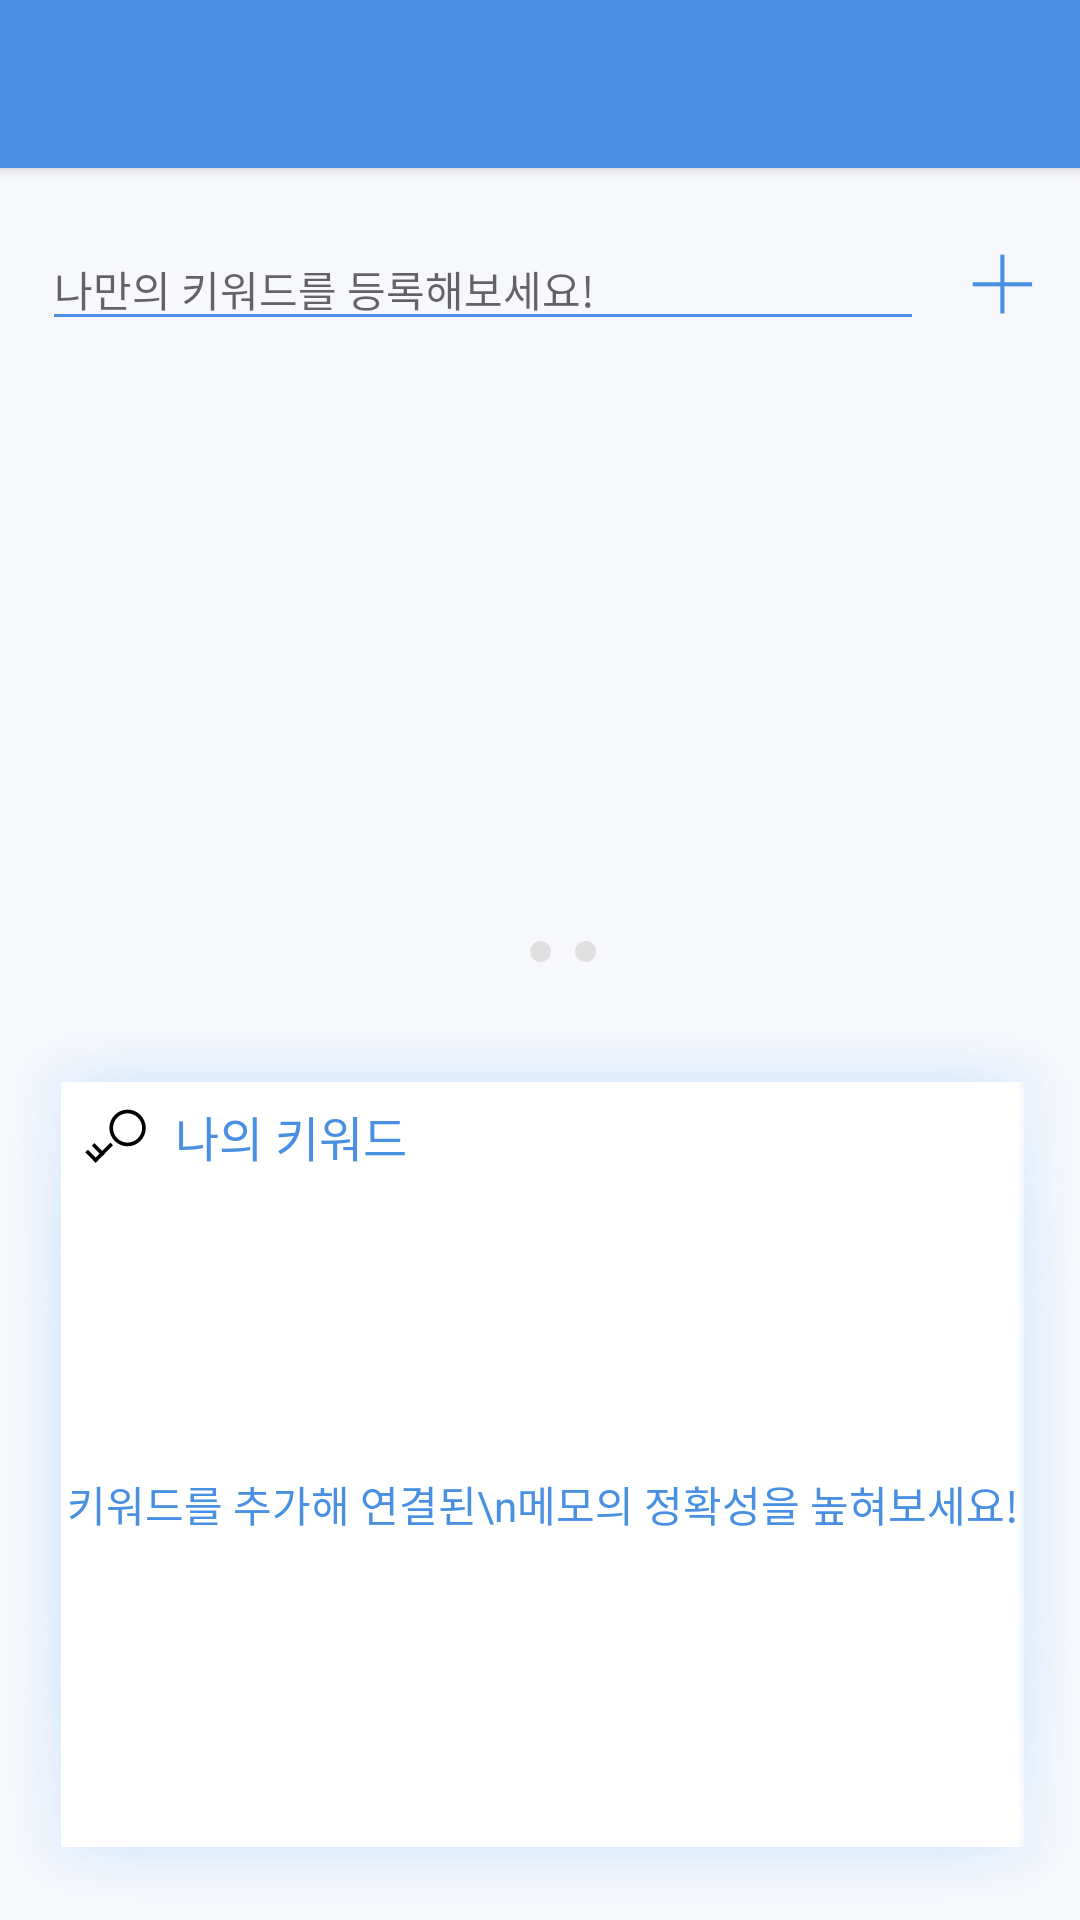

Icons on this 1080 x 1920 Android screen, each with its box as bbox=(x1, y1, x2, y2):
plus: bbox=(972, 254, 1032, 314)
